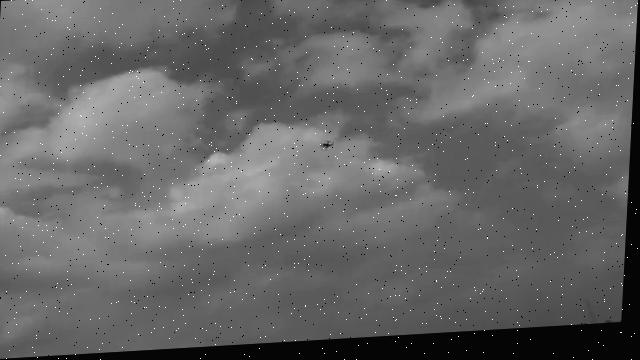drone: (317, 140, 336, 155)
